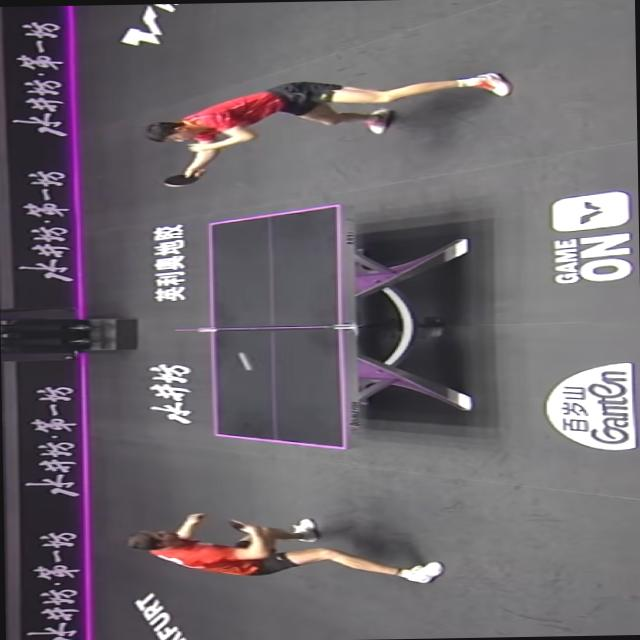TT Net: (174, 321, 358, 333)
TT Racket: (154, 165, 209, 193), (222, 511, 256, 536)
TT Table: (208, 203, 350, 453)
